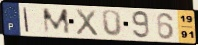0: (101, 9, 123, 38)
6: (156, 12, 175, 40)
9: (131, 10, 151, 40)
I: (22, 6, 30, 33)
M: (42, 8, 73, 35)
X: (74, 8, 100, 37)
